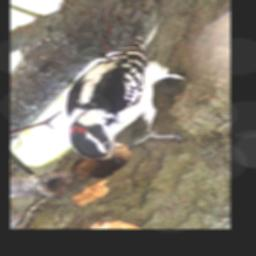Woodpecker: (67, 28, 186, 166)
